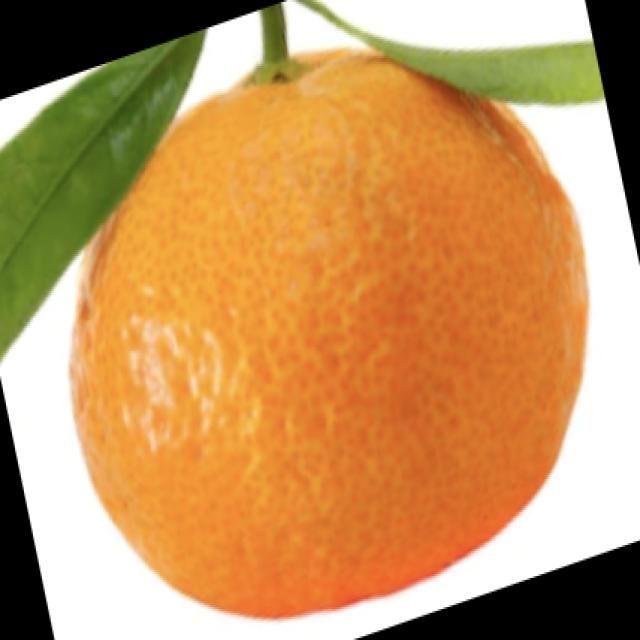matang: (61, 50, 588, 618)
